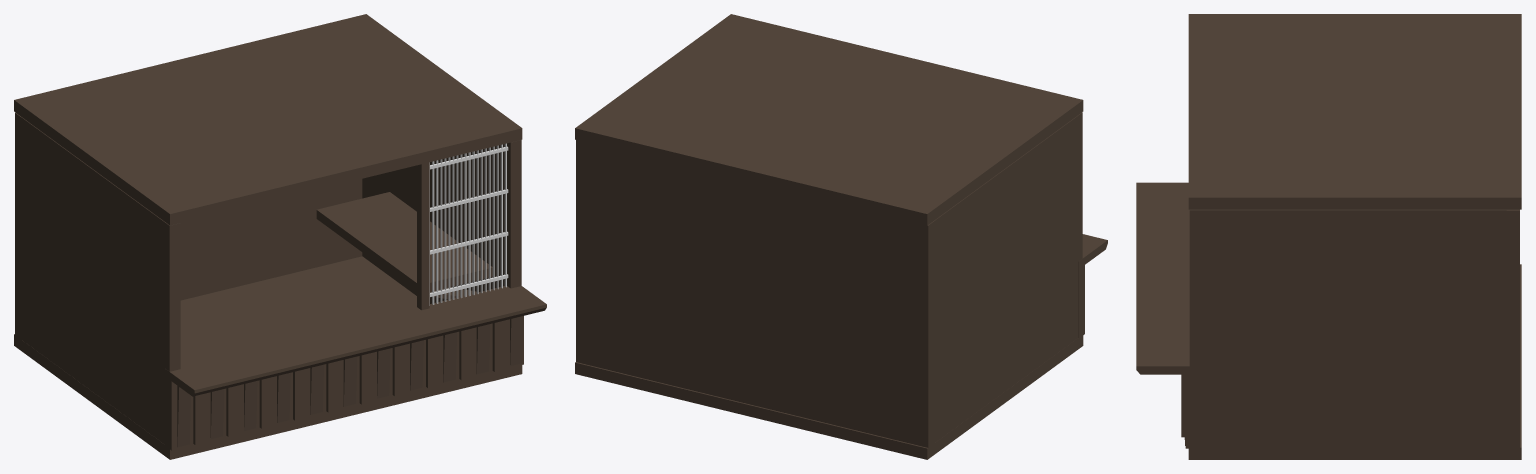
The model's file is shop2.glb.
3 renders of one model, left to right at view 1: azimuth 30°, elevation 25°; view 2: azimuth 150°, elevation 25°; view 3: azimuth 270°, elevation 25°, orthographic. The views are drawn at different scales.
Parts seen in each view (by area): view 1: Cube.010; view 2: Cube.010; view 3: Cube.010.
Boxes of the visible parts, left/top/right/bottom form: Cube.010: left=14, top=14, right=546, bottom=459; Cube.010: left=575, top=14, right=1107, bottom=459; Cube.010: left=1136, top=14, right=1521, bottom=459.
Size of the model in its own units: 9.11 by 6.07 by 8.09.
